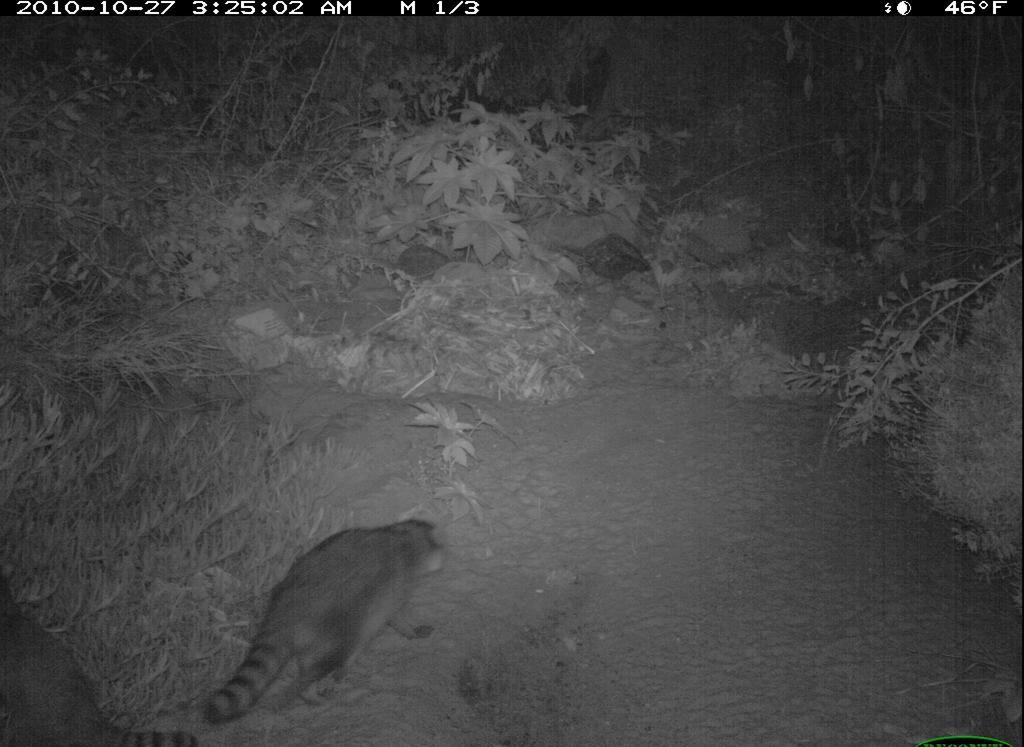raccoon: (204, 515, 452, 729), (1, 582, 199, 747)
